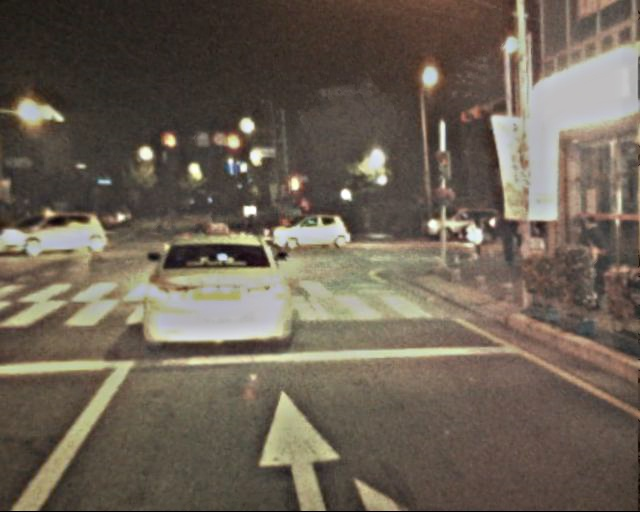person: (579, 213, 610, 304), (502, 214, 524, 272), (466, 219, 487, 269), (190, 207, 204, 242), (164, 205, 178, 240), (243, 208, 257, 243), (152, 207, 163, 235)
